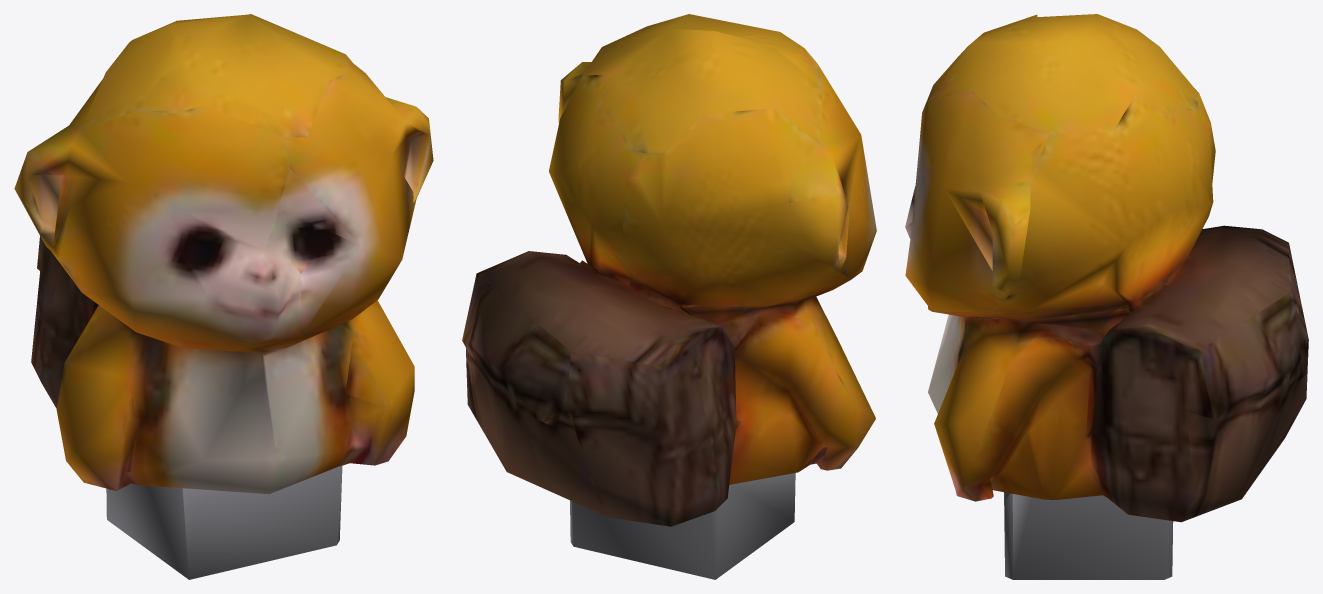
The model's file is mono_baja.glb.
3 renders of one model, left to right at view 1: azimuth 30°, elevation 25°; view 2: azimuth 150°, elevation 25°; view 3: azimuth 270°, elevation 25°, orthographic. The views are drawn at different scales.
Parts seen in each view (by area): view 1: mono; view 2: mono; view 3: mono.
Part boxes in pixels (<box>): mono: <box>14,14,433,579</box>; mono: <box>462,14,876,579</box>; mono: <box>905,14,1308,579</box>.
Size of the model in its own units: 0.8454 by 1.18 by 0.8473.
Materials: 2 (1 with a texture image).
